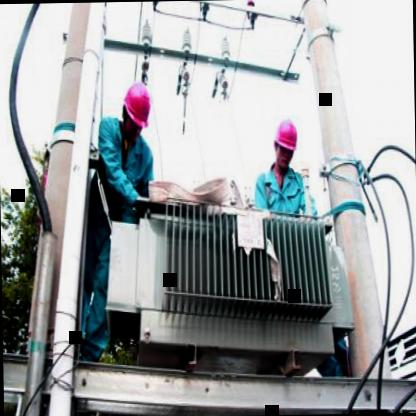helmet: (119, 76, 153, 141), (271, 113, 300, 172)
